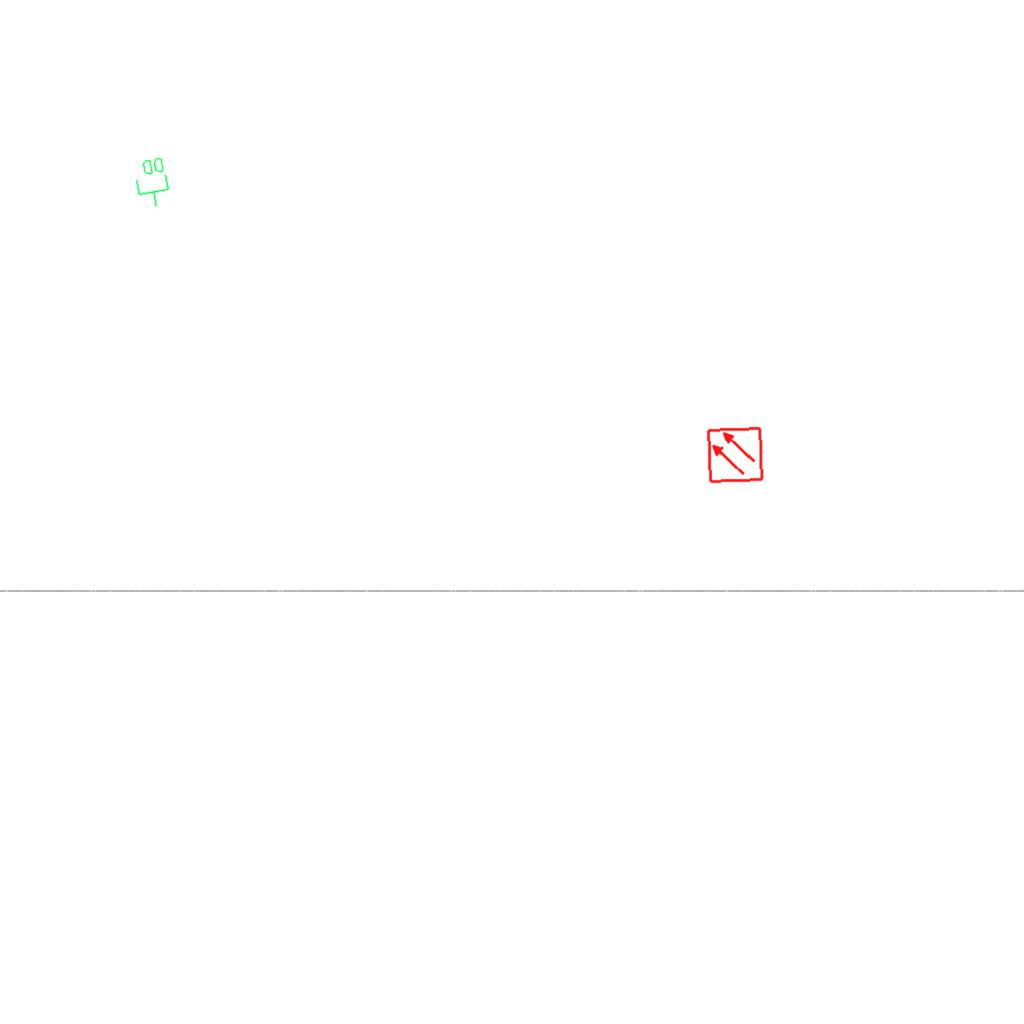Datenanschluss_zweifach: (131, 154, 174, 212)
RMO_Rauchmelder_optischer: (706, 426, 764, 484)
